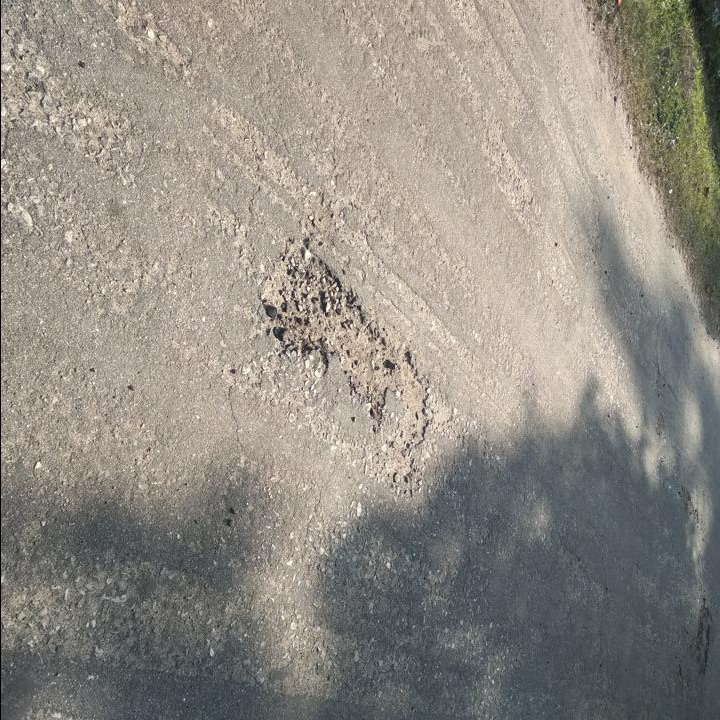pothole: (262, 228, 436, 455)
